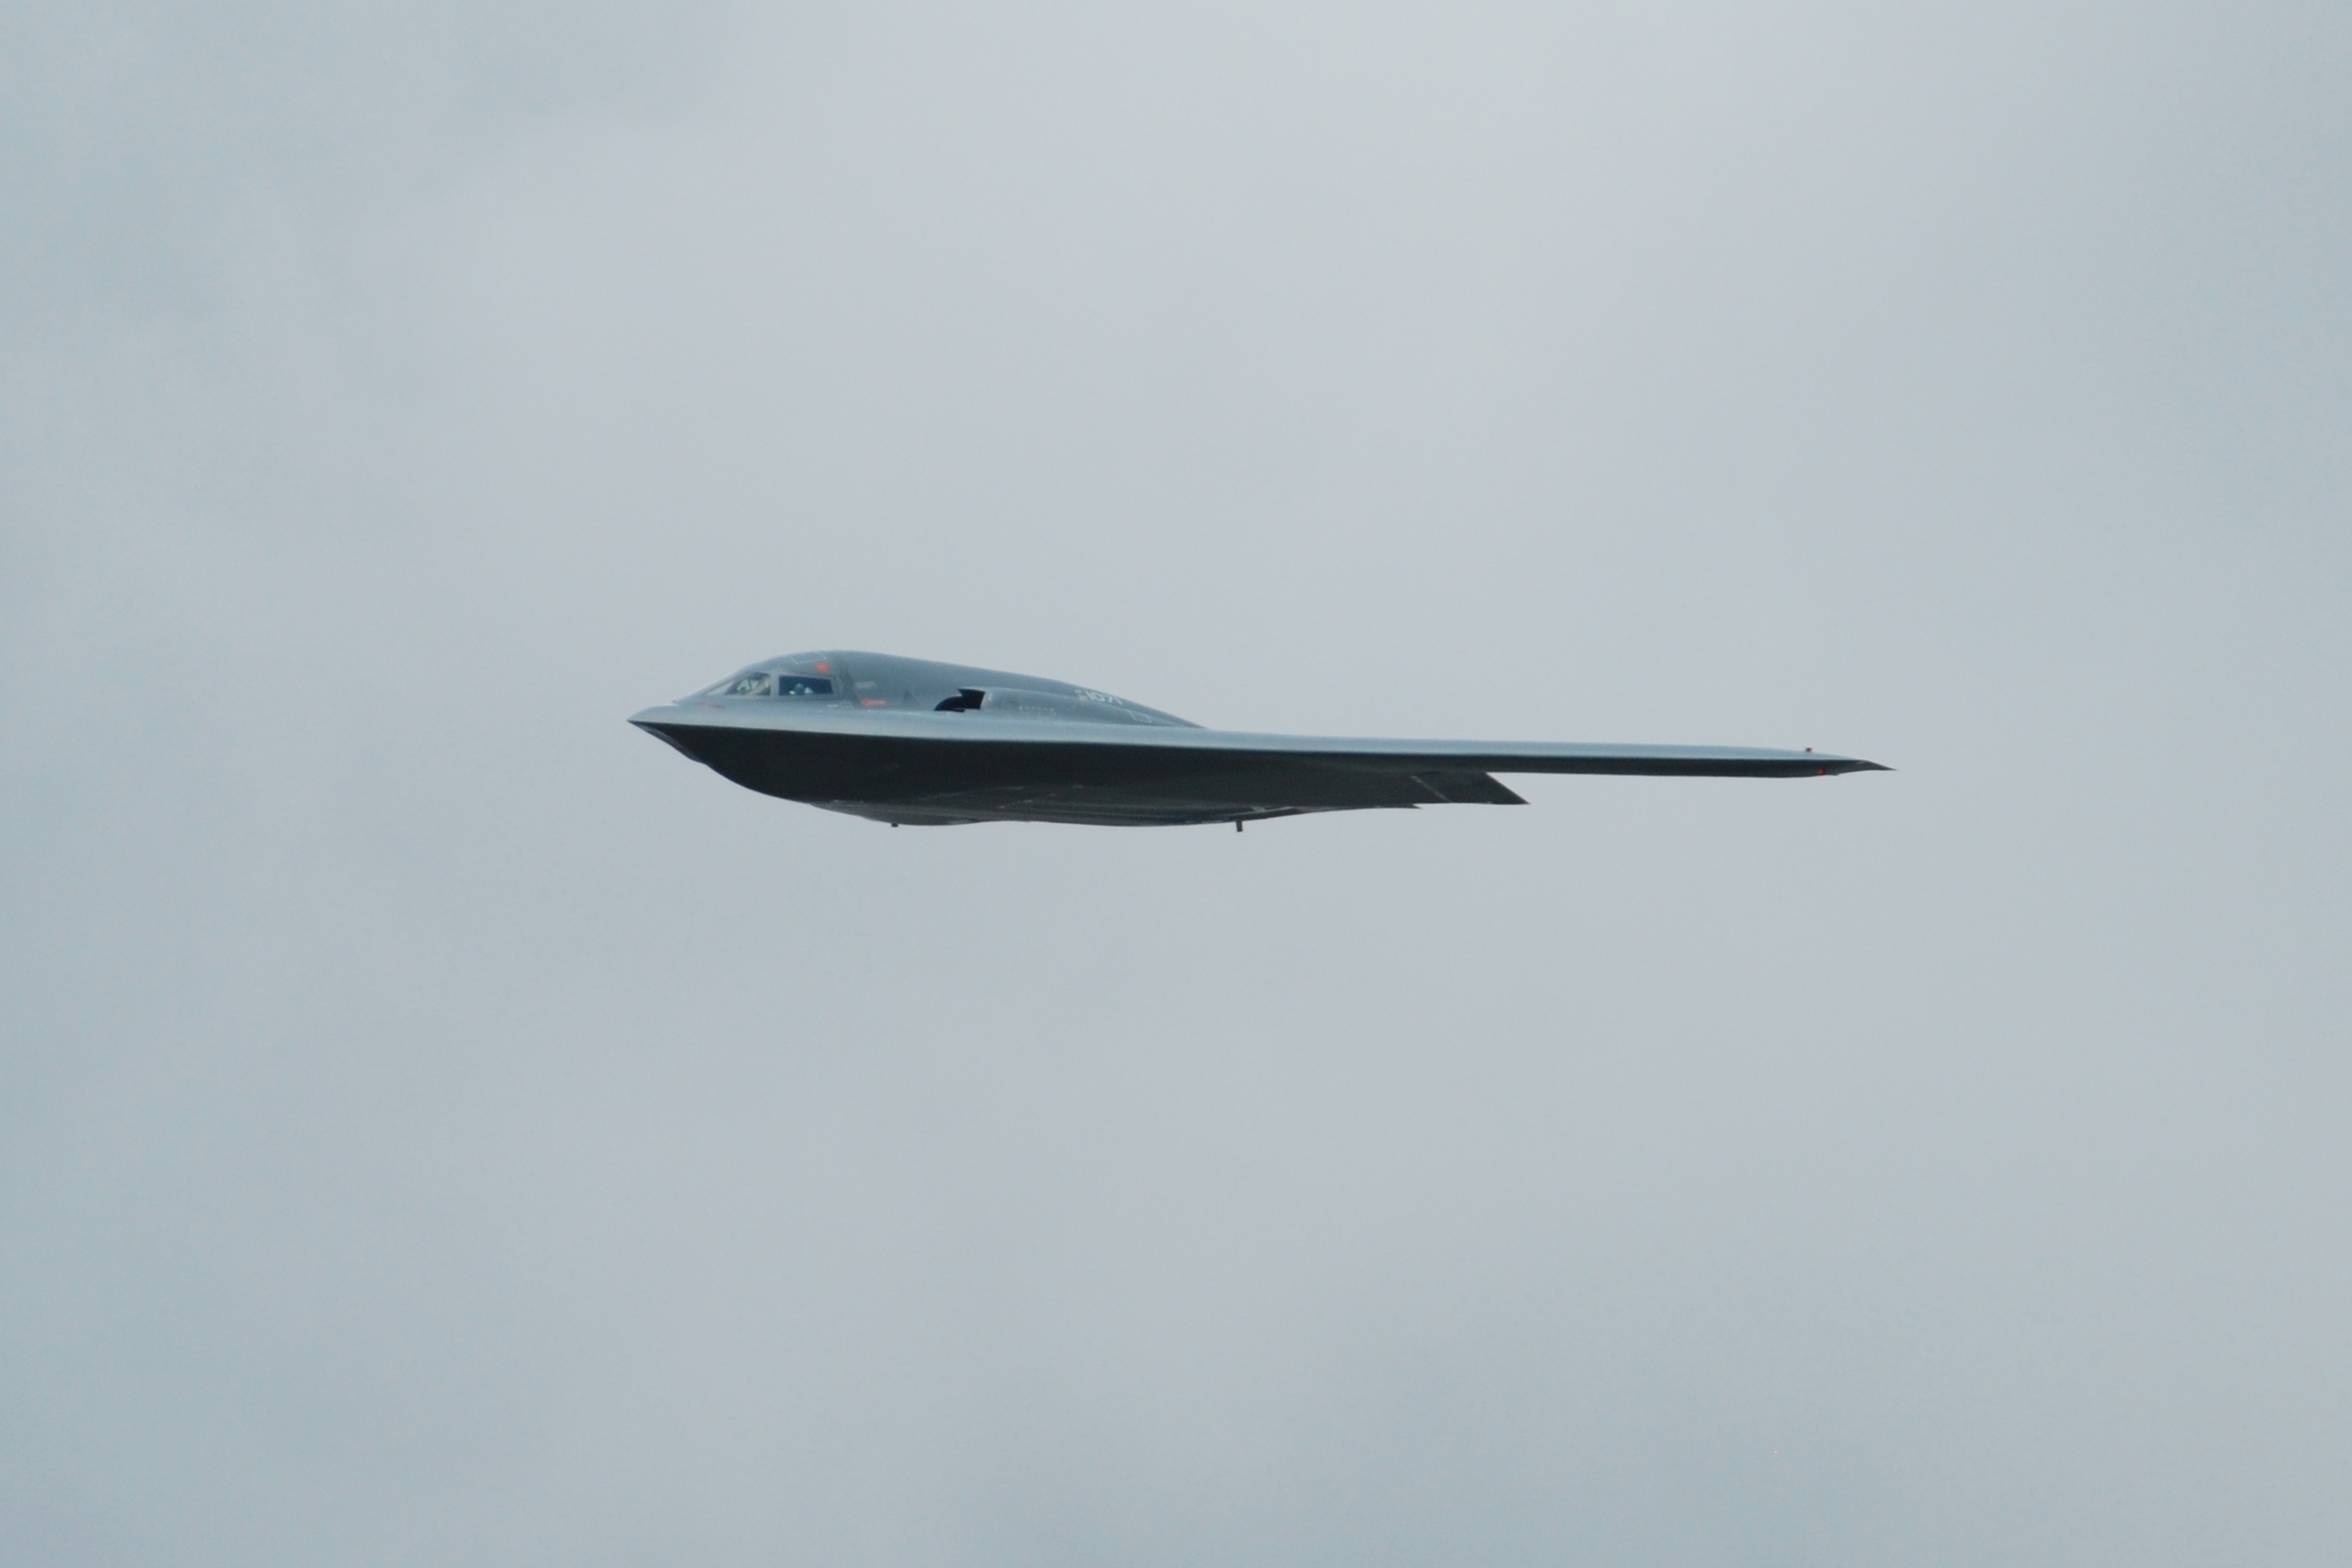B2: (626, 647, 1899, 831)
